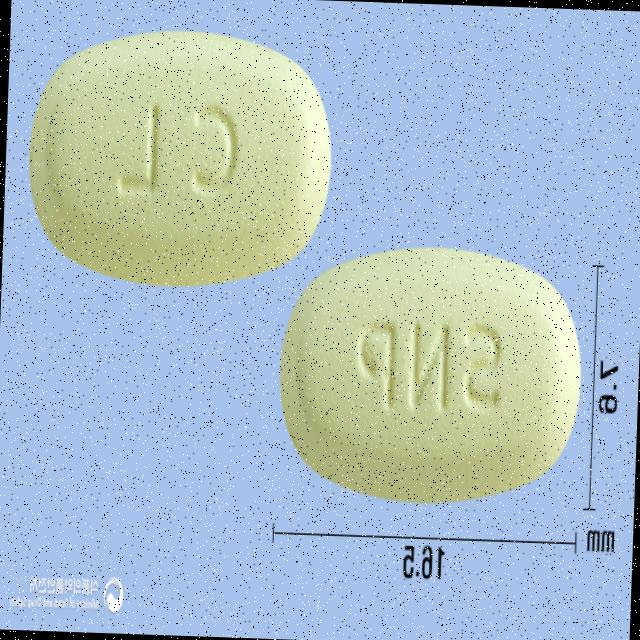A Progen Clarithromycin Tab-500mg: (272, 242, 586, 512), (25, 22, 335, 292)
